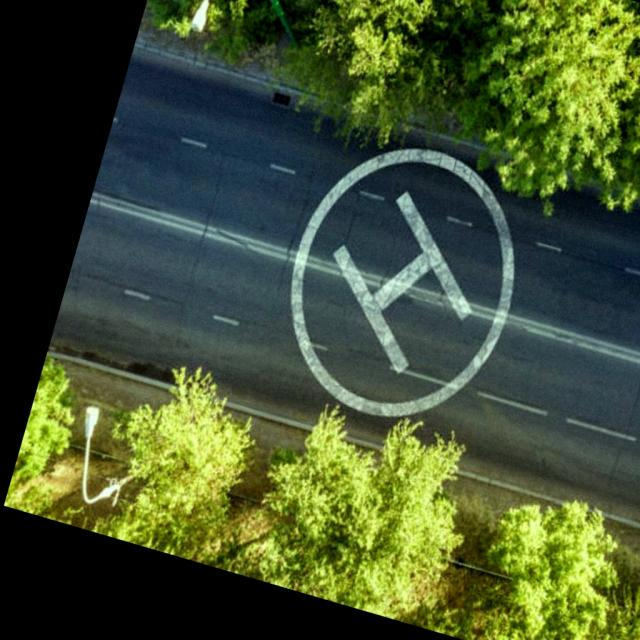helipad: (282, 144, 517, 419)
